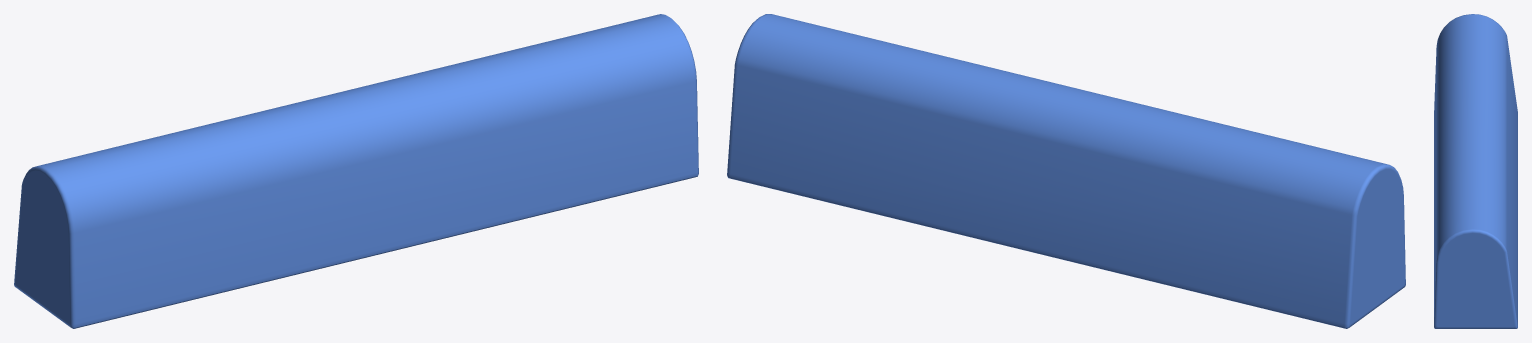
The model's file is original-11.obj.
3 views of the same model, side by side, from view 1: azimuth 30°, elevation 25°; view 2: azimuth 150°, elevation 25°; view 3: azimuth 270°, elevation 25° (orthographic). The views are drawn at different scales.
Visible parts, largest first — view 1: mesh11/mesh11-geometry#mesh11-geometry; view 2: mesh11/mesh11-geometry#mesh11-geometry; view 3: mesh11/mesh11-geometry#mesh11-geometry.
Boxes of the visible parts, x1,y1,x2,y2 form: mesh11/mesh11-geometry#mesh11-geometry: (14, 14, 698, 328); mesh11/mesh11-geometry#mesh11-geometry: (727, 14, 1405, 328); mesh11/mesh11-geometry#mesh11-geometry: (1434, 14, 1517, 328).
Size of the model in its own units: 0.3363 by 0.0716 by 0.0548.
